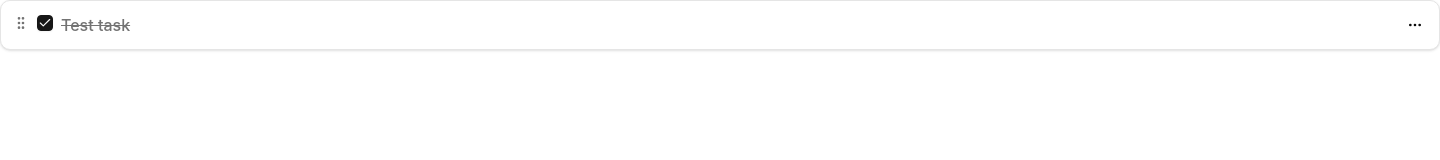
Scenario: TaskPanel › shows Reopen for completed tasks
Click the button with test id "task-actions-toggle-1".
click(1415, 25)  # box 1403,13 -> 1427,37
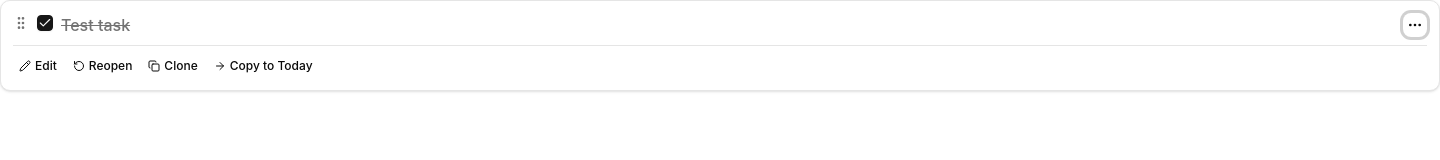
Check: the button with test id "task-reopen-1" is shown, box 67,54 -> 138,78
